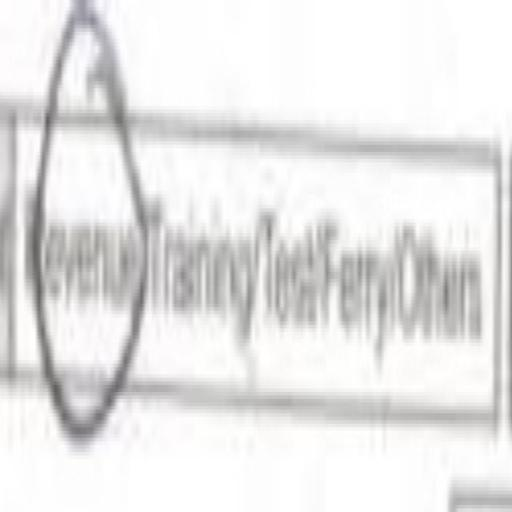check: (17, 10, 145, 464)
